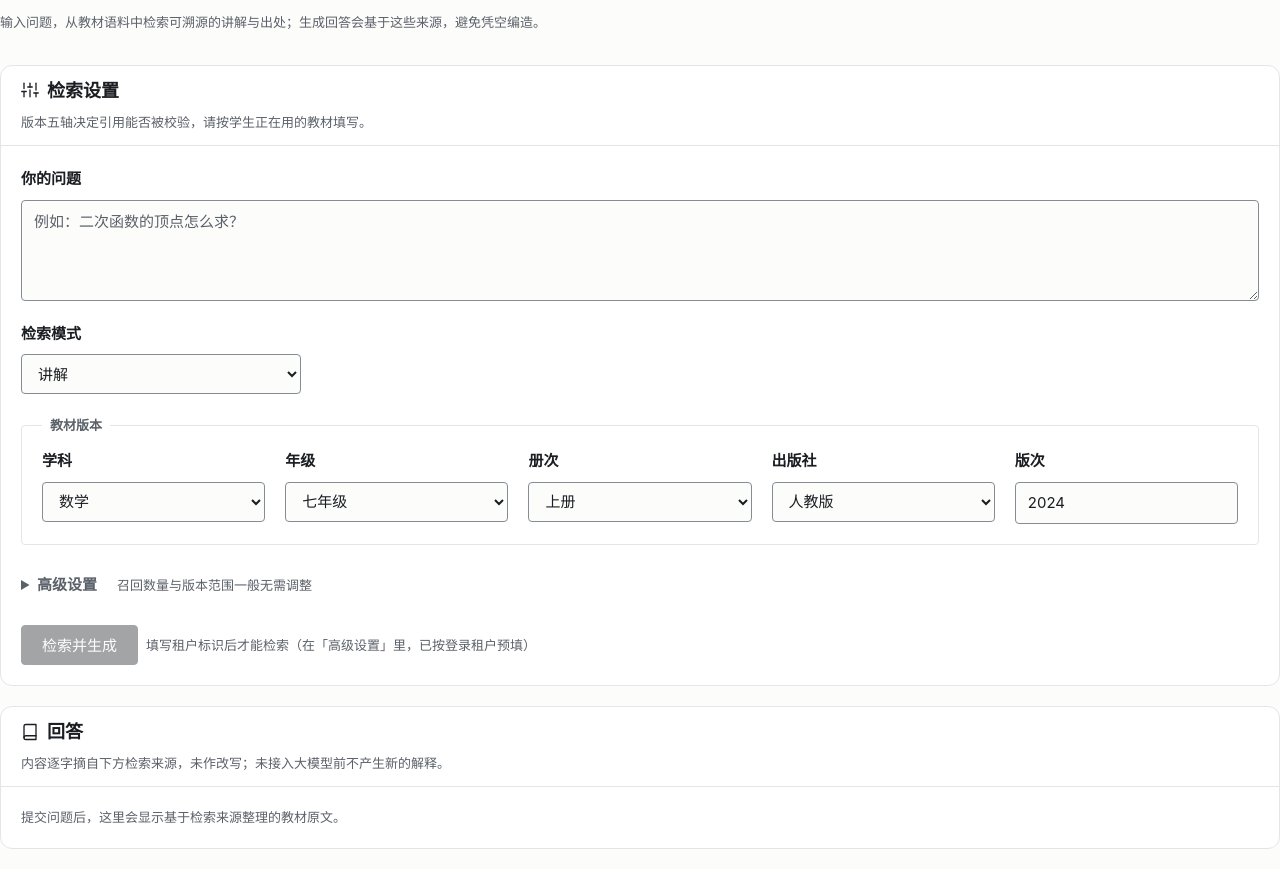
Test: 知识检索页（FE-RAG 接线） › ⛔ 诚实超时态：超时文案与网络失败不同
Type "顶点怎么求" into the text box labelled "你的问题" at (640, 250), box 21,200 -> 1259,301
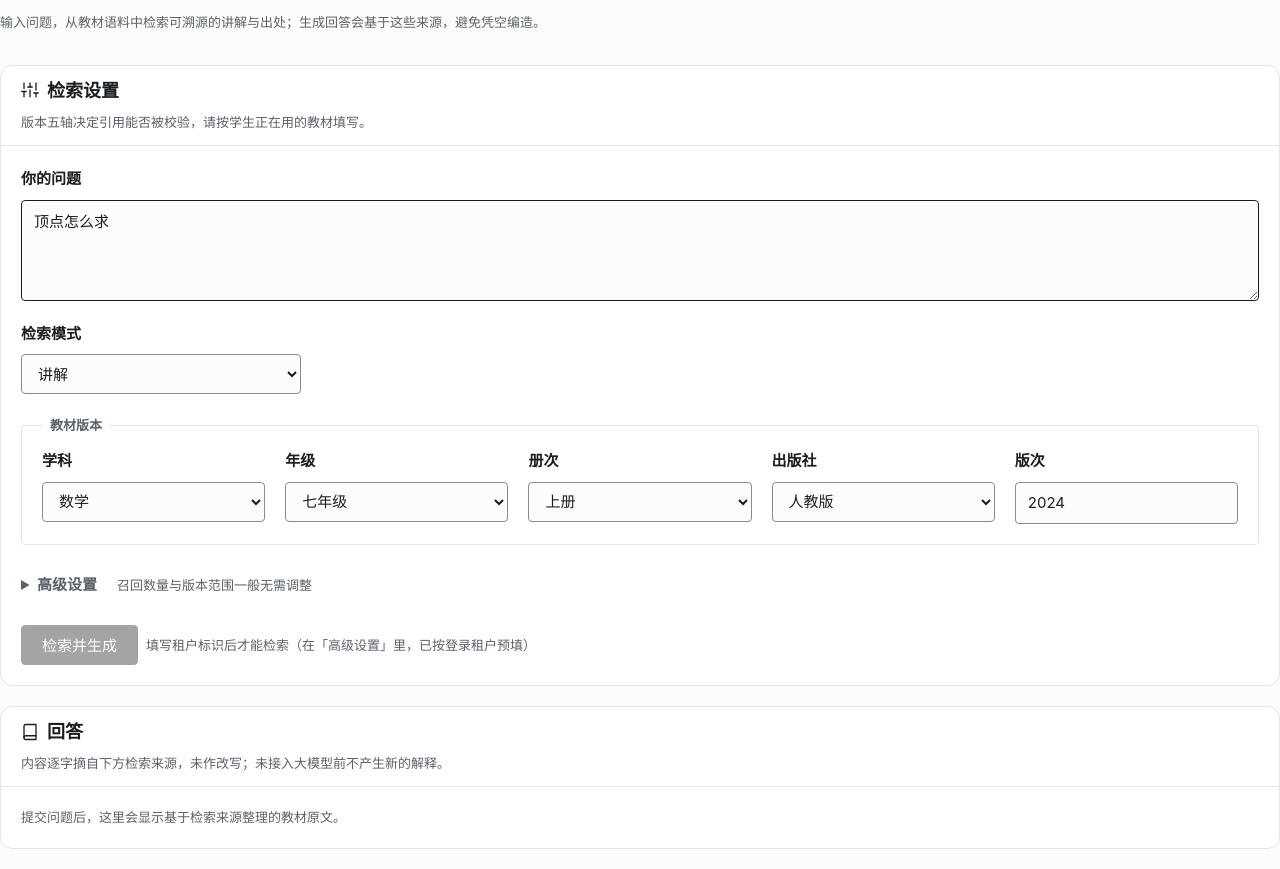
Click the heading "高级设置" at (67, 584), box 37,575 -> 97,594
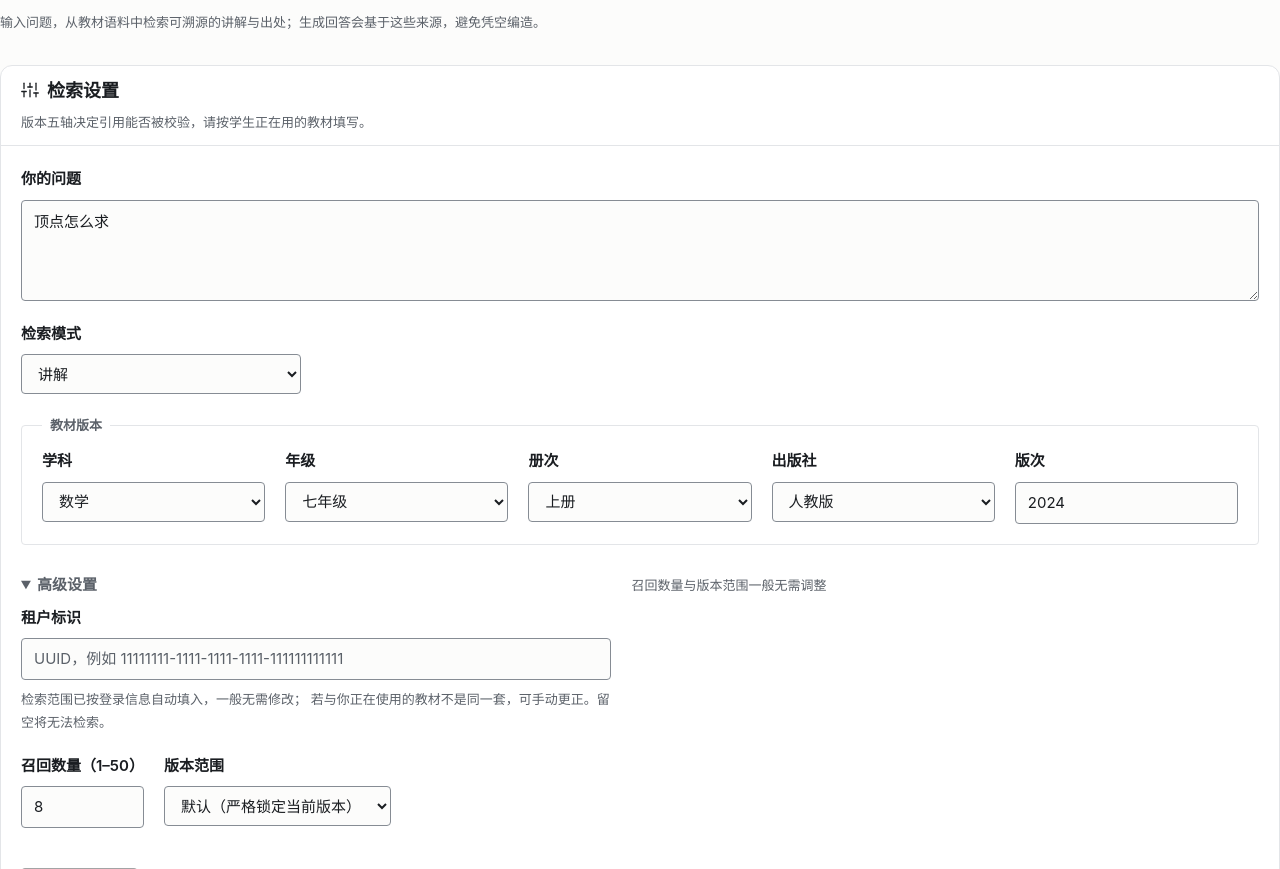
Type "11111111-1111-1111-1111-111111111111" into the field labelled "租户标识" at (316, 659), box 21,638 -> 612,680
(page scrolled)
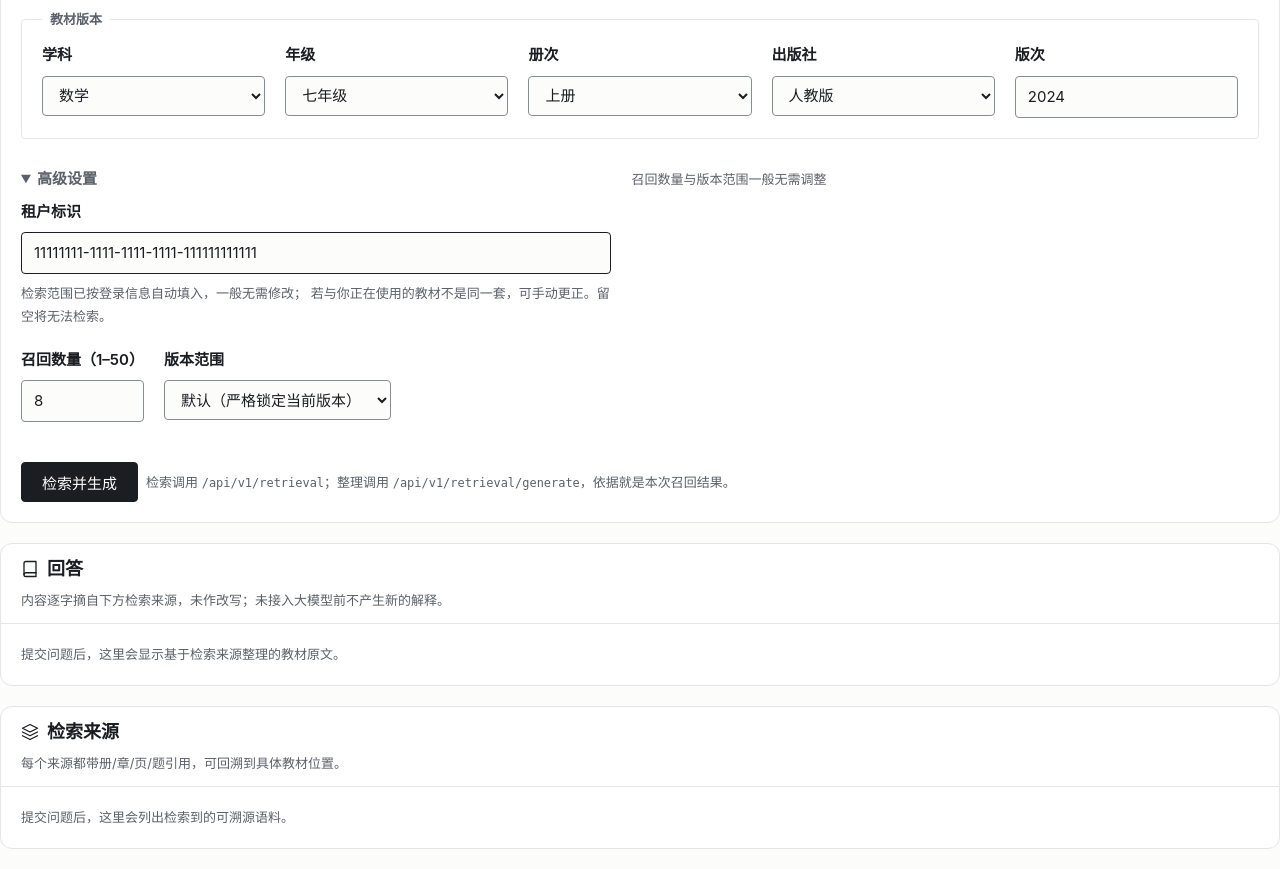
Click the button "检索并生成" at (80, 482), box 21,462 -> 138,502
(page scrolled)
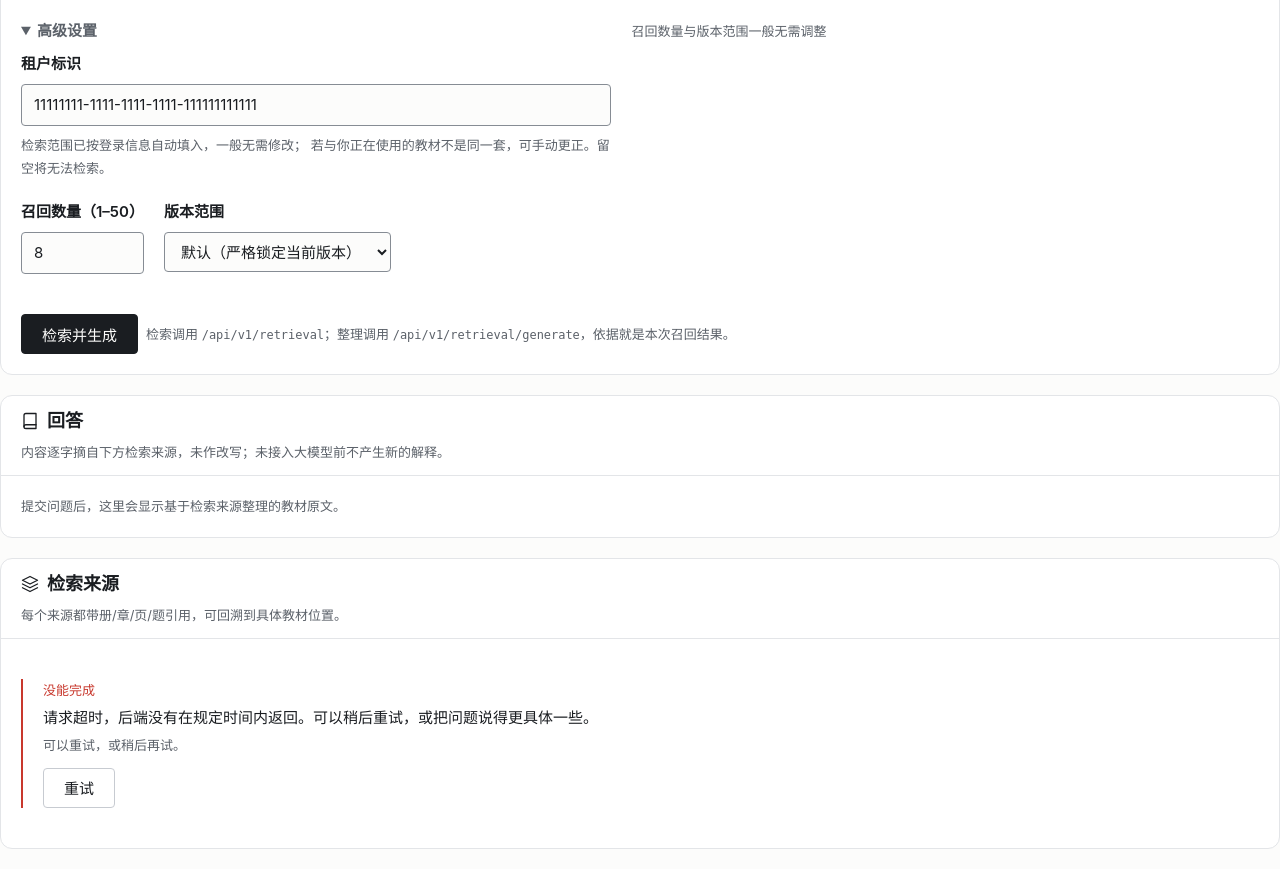
Expected: the text "请求超时，后端没有在规定时间内返回。可以稍后重试，或把问题说得更具体一些。" is shown, 43,708 -> 598,727
